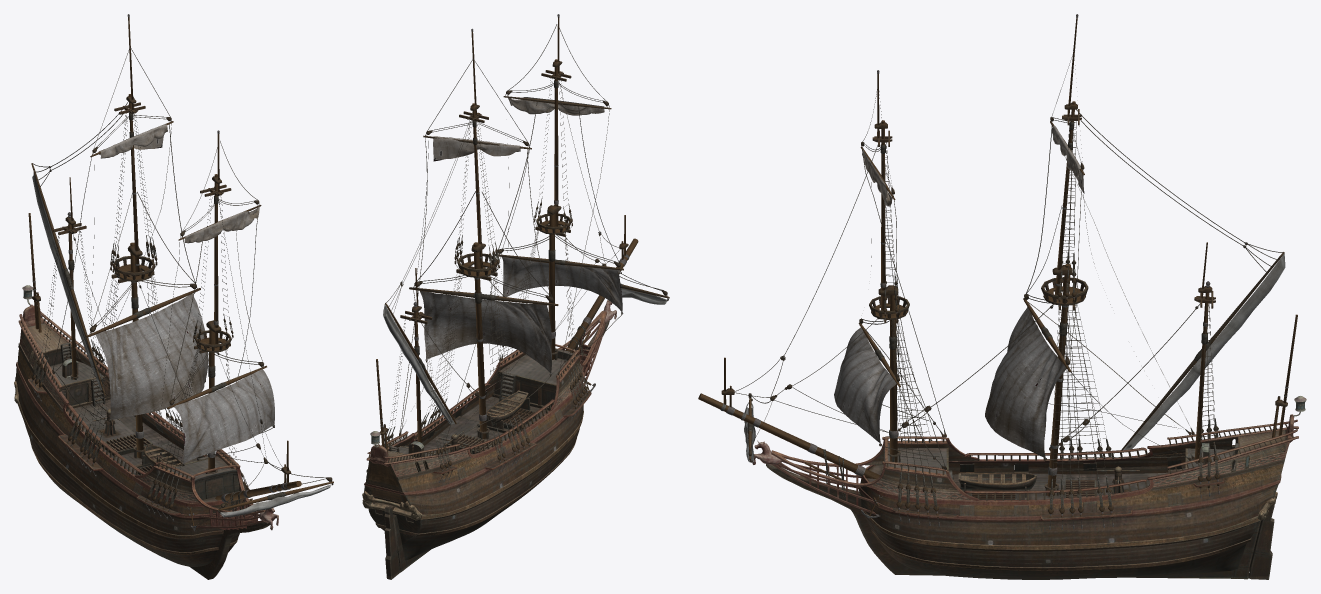
File: ship_galleon.glb
3 views of the same model, side by side, from view 1: azimuth 30°, elevation 25°; view 2: azimuth 150°, elevation 25°; view 3: azimuth 270°, elevation 25° (orthographic). The views are drawn at different scales.
Visible parts, largest first — view 1: dutch_ship_medium_hull_dutch_ship_medium_hull_0, dutch_ship_medium_rigging_dutch_ship_medium_rigging_0, dutch_ship_medium_sails_dutch_ship_medium_sails_0; view 2: dutch_ship_medium_hull_dutch_ship_medium_hull_0, dutch_ship_medium_rigging_dutch_ship_medium_rigging_0, dutch_ship_medium_sails_dutch_ship_medium_sails_0; view 3: dutch_ship_medium_hull_dutch_ship_medium_hull_0, dutch_ship_medium_rigging_dutch_ship_medium_rigging_0, dutch_ship_medium_sails_dutch_ship_medium_sails_0.
Part boxes in pixels (box(x1,y1,x2,y2)): dutch_ship_medium_hull_dutch_ship_medium_hull_0: box(14, 285, 278, 579); dutch_ship_medium_rigging_dutch_ship_medium_rigging_0: box(28, 14, 333, 531); dutch_ship_medium_sails_dutch_ship_medium_sails_0: box(95, 124, 274, 462); dutch_ship_medium_hull_dutch_ship_medium_hull_0: box(362, 300, 616, 579); dutch_ship_medium_rigging_dutch_ship_medium_rigging_0: box(376, 14, 669, 482); dutch_ship_medium_sails_dutch_ship_medium_sails_0: box(420, 97, 622, 373); dutch_ship_medium_hull_dutch_ship_medium_hull_0: box(752, 396, 1306, 579); dutch_ship_medium_rigging_dutch_ship_medium_rigging_0: box(698, 14, 1297, 529); dutch_ship_medium_sails_dutch_ship_medium_sails_0: box(834, 126, 1084, 457).
Bounding box in the file's own units: 6.81 × 24.66 × 24.07.
Materials: 3 (3 with a texture image).
